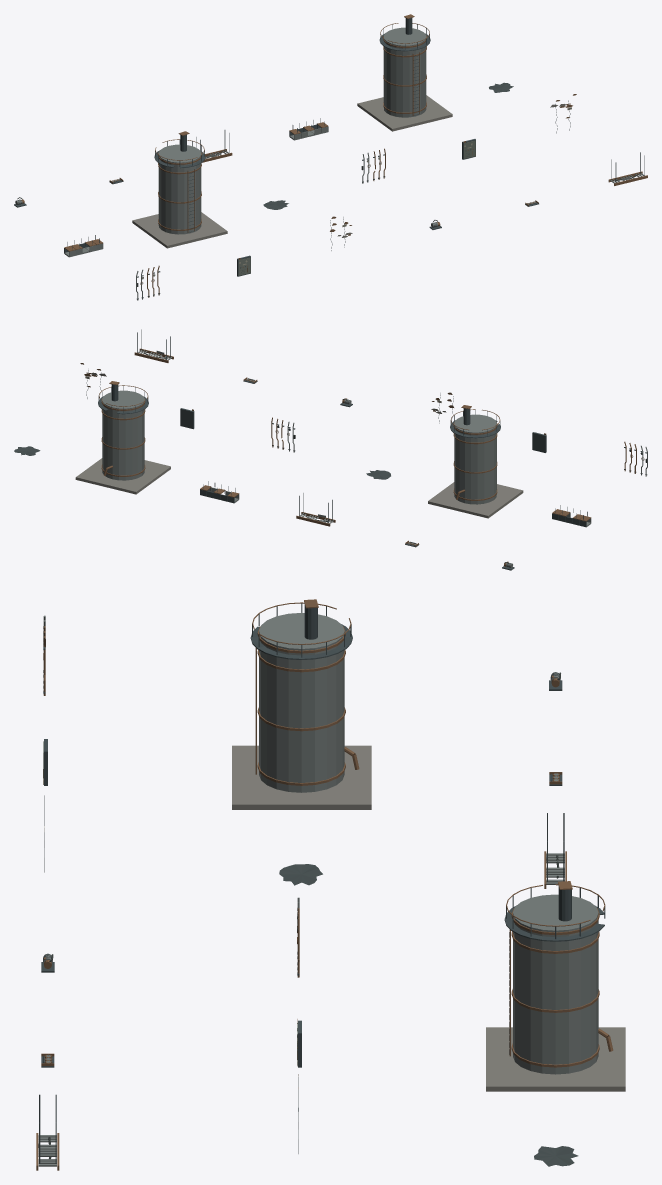
The model's file is derelict-kit.glb.
3 views of the same model, one above another, from view 1: azimuth 30°, elevation 25°; view 2: azimuth 150°, elevation 25°; view 3: azimuth 270°, elevation 25° (orthographic). The views are drawn at different scales.
Parts seen in each view (by area): view 1: Ruin_tank1_body, Ruin_tank0_body, Ruin_duct0_body, Ruin_duct1_body; view 2: Ruin_tank1_body, Ruin_tank0_body, Ruin_duct1_body, Ruin_duct0_body, Ruin_conveyor0_body, Ruin_conveyor1_body; view 3: Ruin_tank0_body, Ruin_tank1_body, Ruin_conveyor0_body, Ruin_conveyor1_body.
Boxes of the visible parts, <box> form: Ruin_tank1_body: <box>357,14,452,131</box>; Ruin_tank0_body: <box>132,131,227,248</box>; Ruin_duct0_body: <box>64,235,103,257</box>; Ruin_duct1_body: <box>289,118,328,140</box>; Ruin_tank1_body: <box>75,381,170,494</box>; Ruin_tank0_body: <box>428,405,523,518</box>; Ruin_duct1_body: <box>200,481,239,503</box>; Ruin_duct0_body: <box>552,505,591,527</box>; Ruin_conveyor0_body: <box>134,329,173,362</box>; Ruin_conveyor1_body: <box>296,493,335,526</box>; Ruin_tank0_body: <box>232,599,371,809</box>; Ruin_tank1_body: <box>486,881,625,1091</box>; Ruin_conveyor0_body: <box>36,1094,59,1170</box>; Ruin_conveyor1_body: <box>544,813,566,888</box>.
Size of the model in its own units: 74.93 by 12.76 by 37.12.
